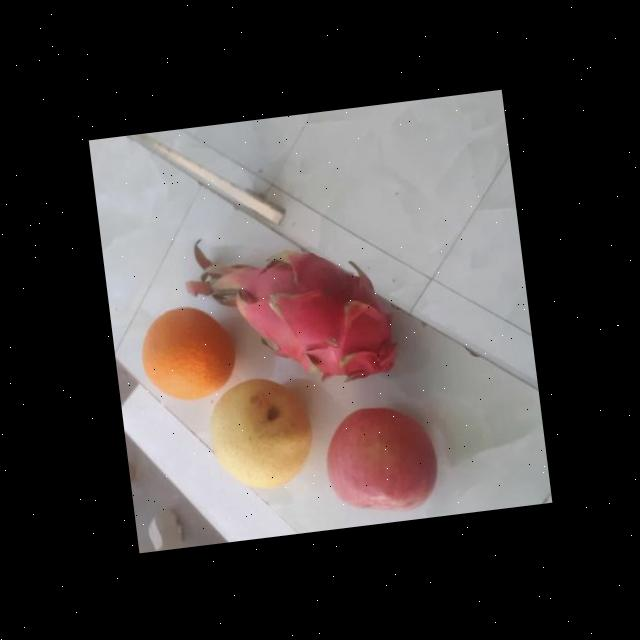apple: (313, 396, 439, 526)
orange: (136, 297, 240, 408)
pear: (205, 370, 317, 500)
pitaya: (228, 240, 400, 395)
